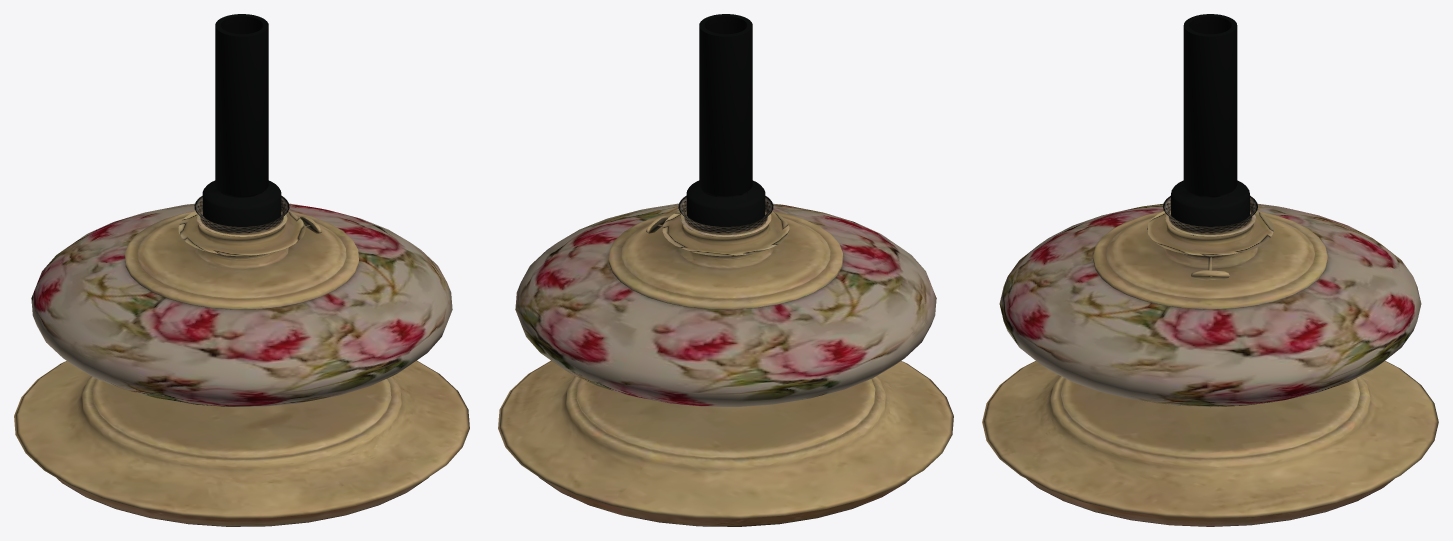
Rendered from ph-vintage-oil-lamp.glb.
The picture shows the model from 3 angles, left to right: view 1: azimuth 30°, elevation 25°; view 2: azimuth 150°, elevation 25°; view 3: azimuth 270°, elevation 25°; orthographic projection.
Visible parts, largest first — view 1: vintage_oil_lamp, vintage_oil_lamp_glass; view 2: vintage_oil_lamp, vintage_oil_lamp_glass; view 3: vintage_oil_lamp, vintage_oil_lamp_glass.
Boxes of the visible parts, bbox=[...] form: vintage_oil_lamp: bbox=[14, 203, 469, 526]; vintage_oil_lamp_glass: bbox=[194, 14, 289, 234]; vintage_oil_lamp: bbox=[498, 203, 953, 526]; vintage_oil_lamp_glass: bbox=[678, 14, 773, 234]; vintage_oil_lamp: bbox=[982, 203, 1438, 526]; vintage_oil_lamp_glass: bbox=[1163, 14, 1257, 234].
Size of the model in its own units: 1 by 1 by 1.
Materials: 3 (3 with a texture image).
